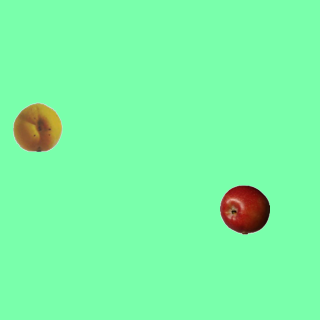Apple Braeburn: (219, 184, 269, 234)
Peach 2: (12, 101, 62, 151)
